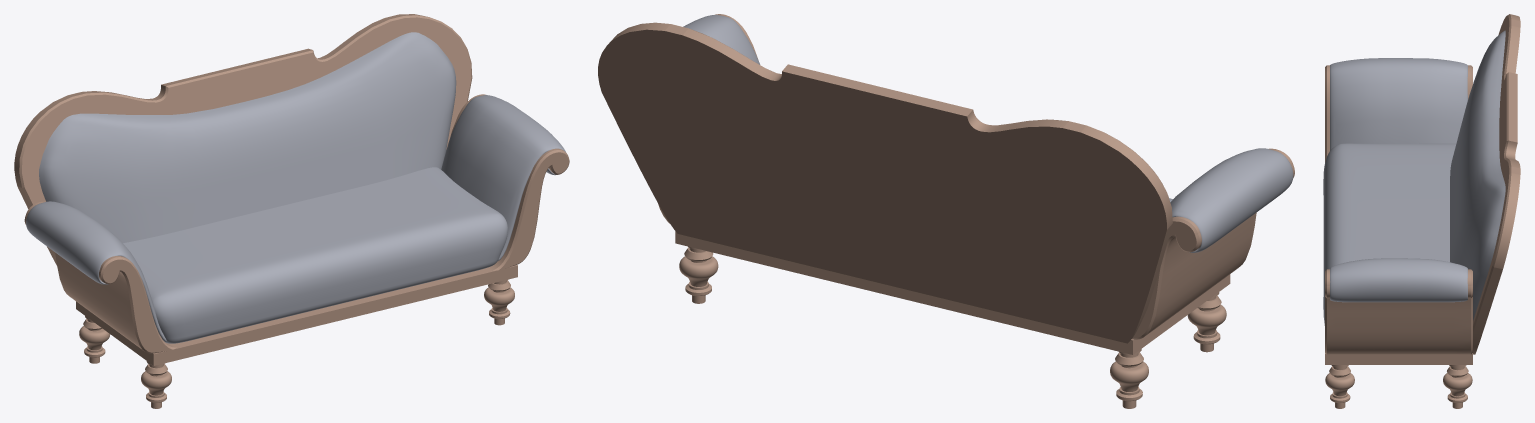
File: 884_sofa_2seat.glb
3 views of the same model, side by side, from view 1: azimuth 30°, elevation 25°; view 2: azimuth 150°, elevation 25°; view 3: azimuth 270°, elevation 25° (orthographic). The views are drawn at different scales.
Visible parts, largest first — view 1: Body; view 2: Body; view 3: Body.
Part boxes in pixels (<box>): Body: <box>14,14,569,408</box>; Body: <box>598,14,1294,408</box>; Body: <box>1323,14,1520,408</box>.
Bounding box in the file's own units: 1.74 × 0.8465 × 0.6543.
